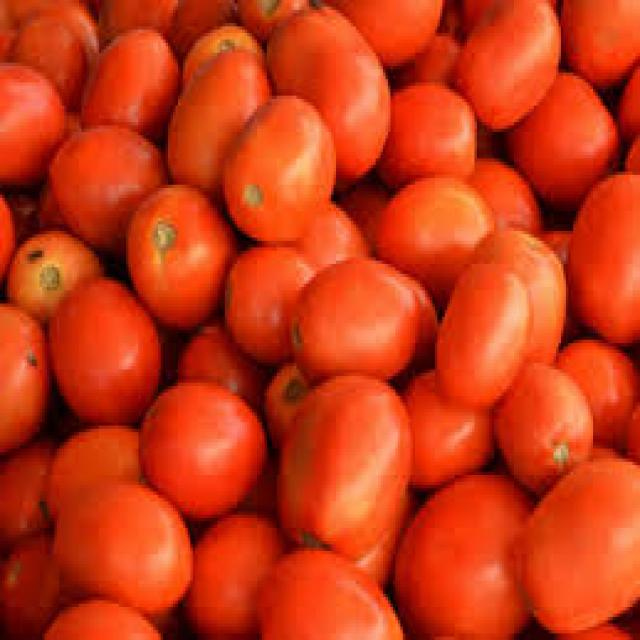Fresh_tomato: (504, 455, 640, 627), (403, 478, 529, 640), (295, 369, 390, 562), (151, 382, 274, 504), (62, 491, 188, 609), (293, 270, 420, 380), (230, 96, 328, 238), (60, 124, 167, 235), (436, 258, 519, 395), (457, 8, 559, 116), (130, 200, 224, 298), (389, 184, 499, 267), (584, 176, 640, 326)
